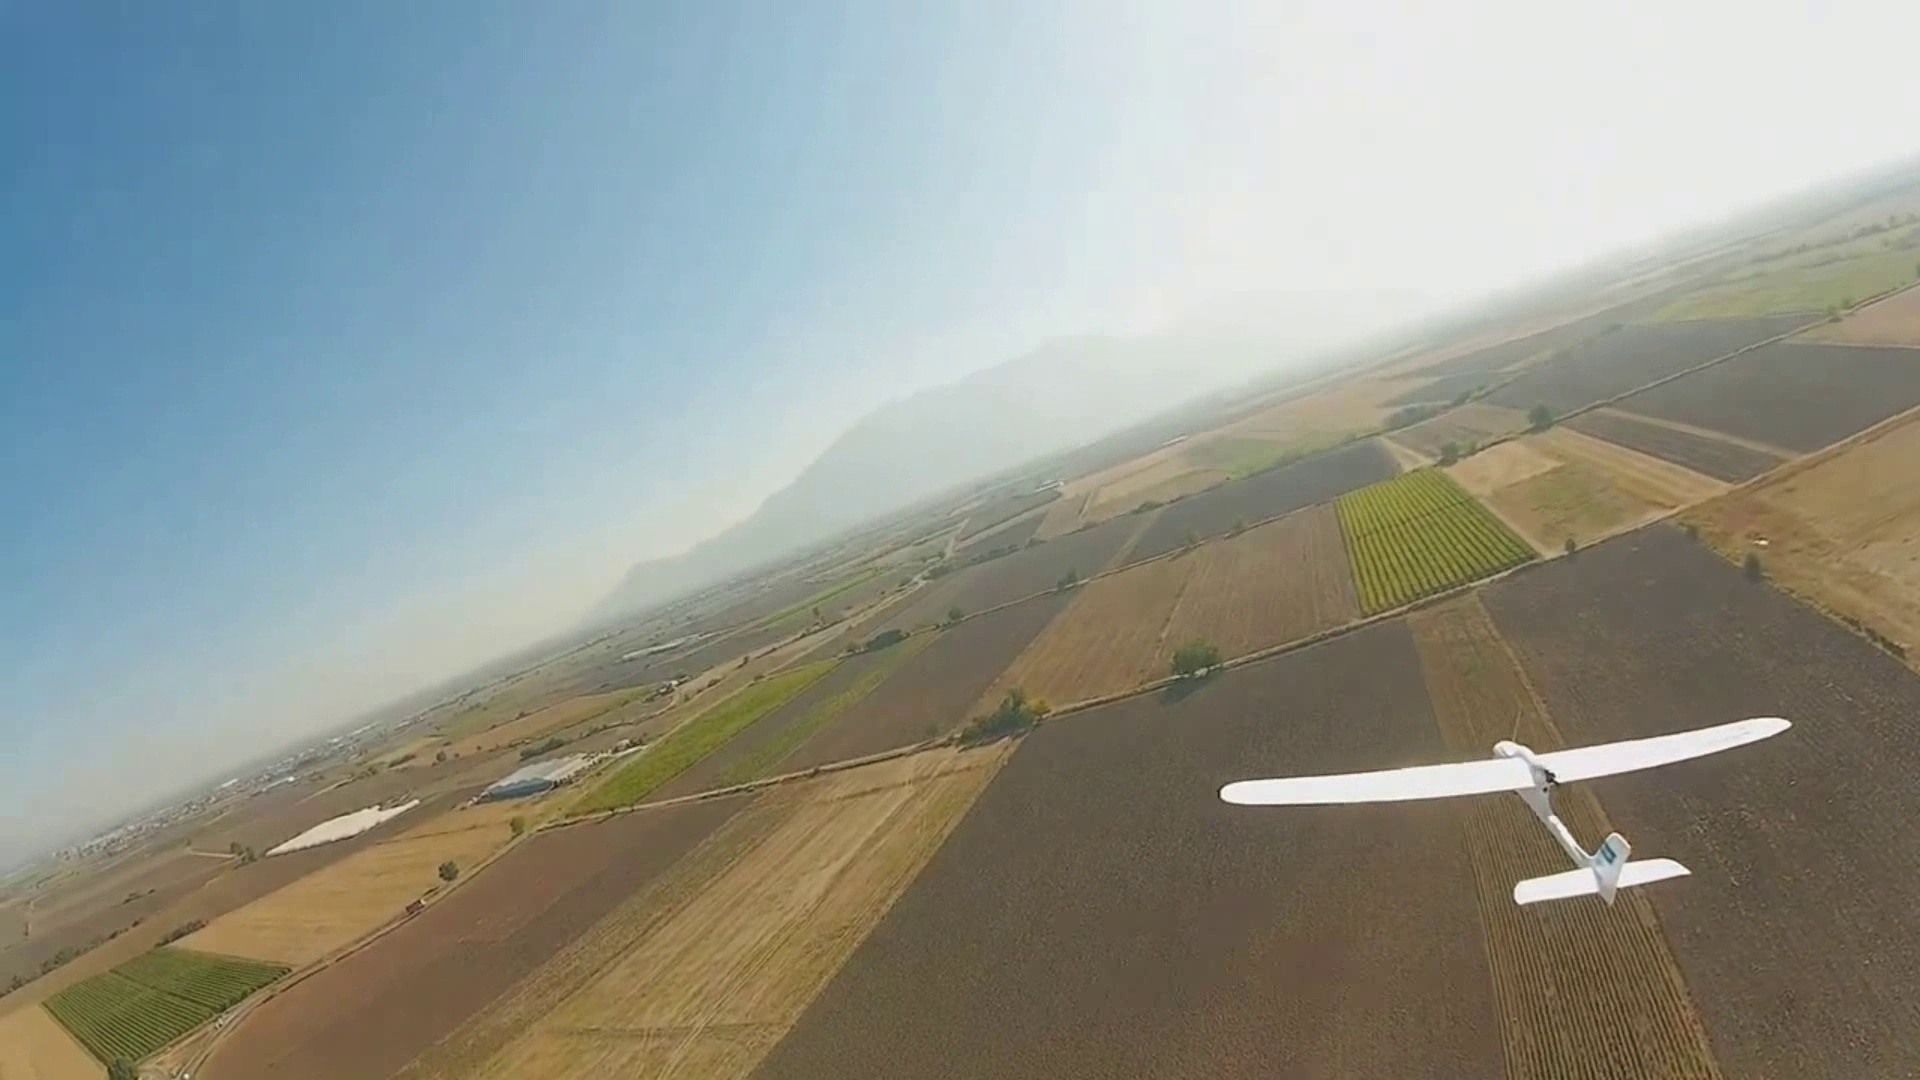airplane: (1217, 717, 1787, 903)
